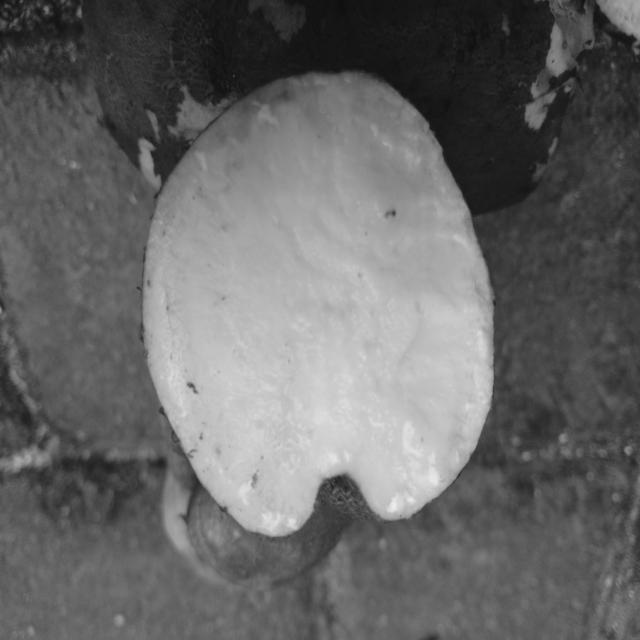Healthy Sweet Potato: (142, 72, 494, 537)
